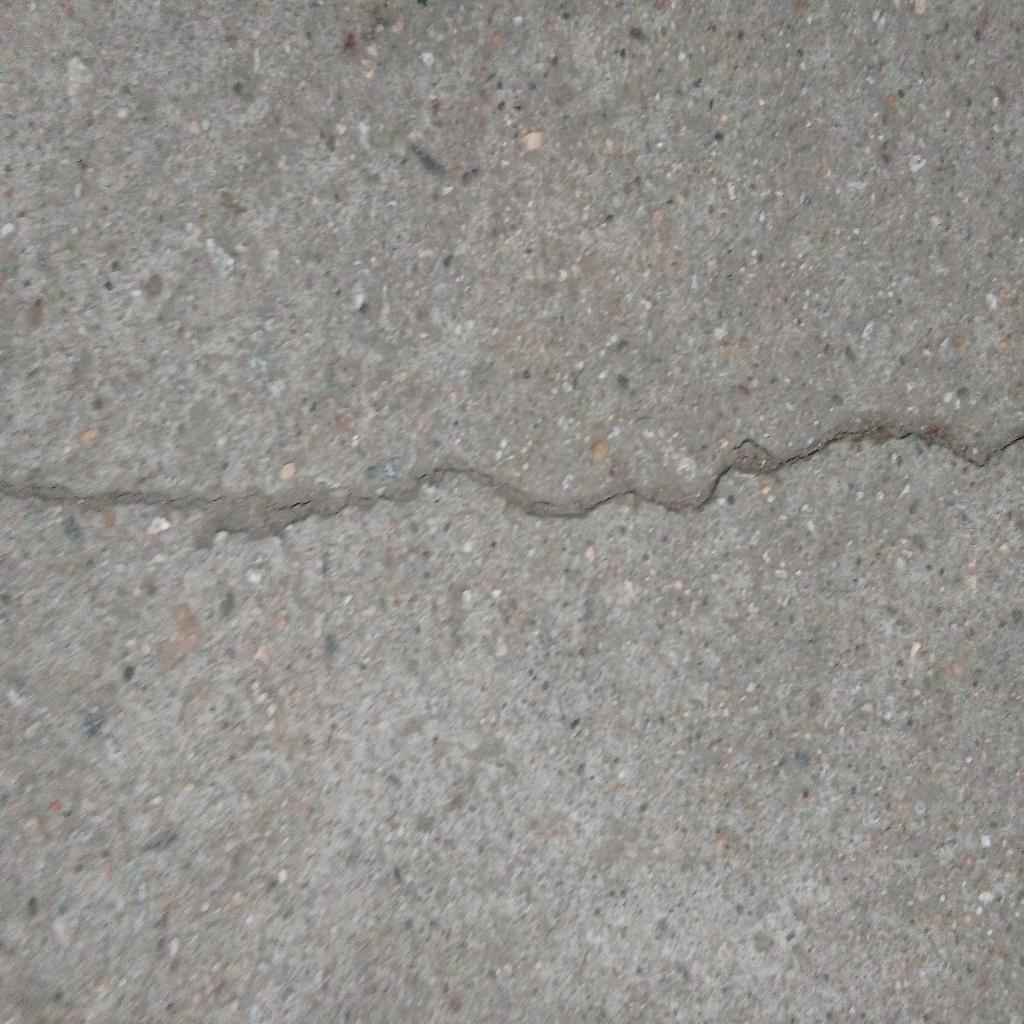Crack: (1, 412, 1024, 551)
